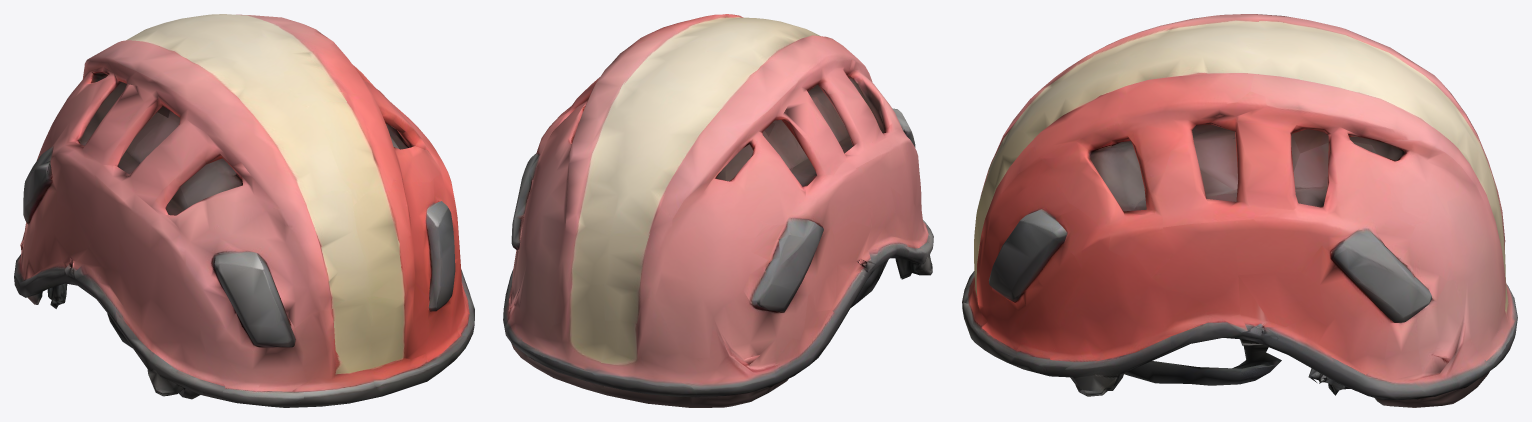
The model's file is runner-helmet.glb.
3 views of the same model, side by side, from view 1: azimuth 30°, elevation 25°; view 2: azimuth 150°, elevation 25°; view 3: azimuth 270°, elevation 25° (orthographic). The views are drawn at different scales.
Visible parts, largest first — view 1: tripo_node_875b10f4-32b7-441f-acde-f424726333de; view 2: tripo_node_875b10f4-32b7-441f-acde-f424726333de; view 3: tripo_node_875b10f4-32b7-441f-acde-f424726333de.
Boxes of the visible parts, x1=… form: tripo_node_875b10f4-32b7-441f-acde-f424726333de: x1=14, y1=14, x2=474, y2=407; tripo_node_875b10f4-32b7-441f-acde-f424726333de: x1=503, y1=14, x2=933, y2=407; tripo_node_875b10f4-32b7-441f-acde-f424726333de: x1=962, y1=14, x2=1517, y2=407.
Bounding box in the file's own units: 0.7323 × 0.6075 × 0.9813.
1 material, 1 textured.
